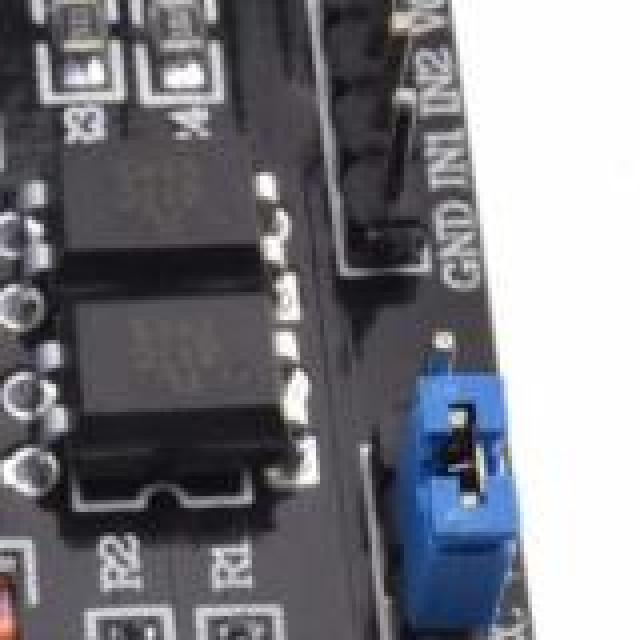IC: (36, 276, 320, 492), (28, 136, 282, 286)
connector: (376, 348, 542, 614), (312, 0, 456, 288)
diode: (0, 548, 52, 640)
resistor: (36, 0, 104, 104), (152, 0, 224, 84), (216, 608, 280, 640), (116, 624, 176, 640)
